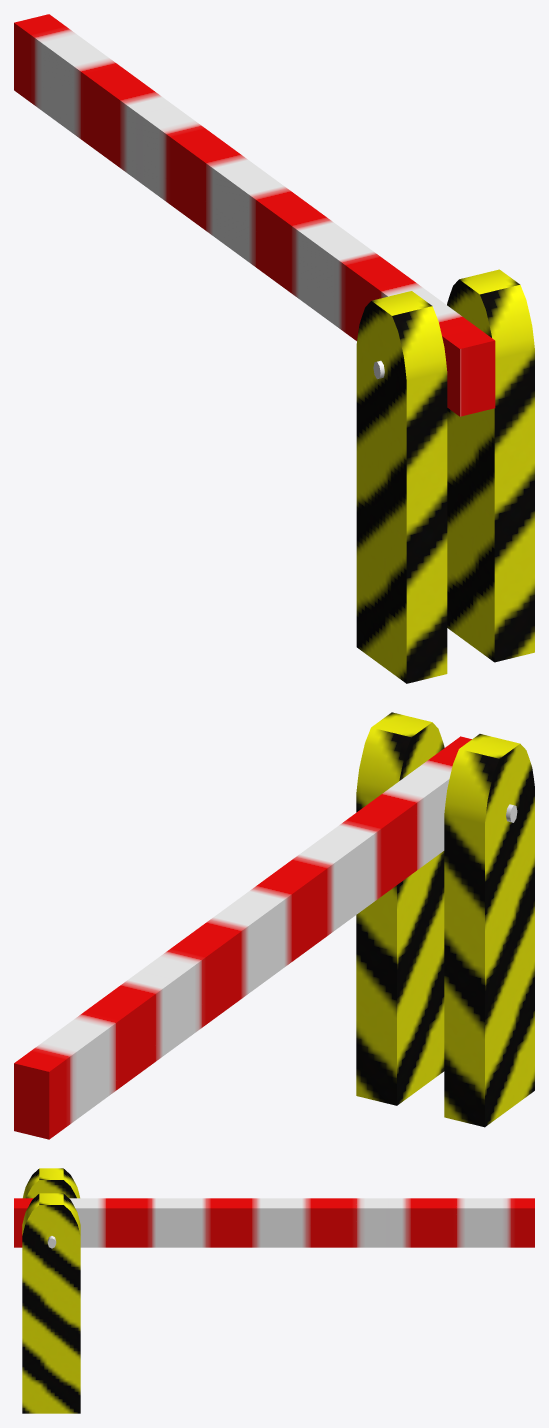
File: road_blocker.fbx
The picture shows the model from 3 angles, top to bottom: view 1: azimuth 30°, elevation 25°; view 2: azimuth 150°, elevation 25°; view 3: azimuth 270°, elevation 25°; orthographic projection. The views are drawn at different scales.
Parts seen in each view (by area): view 1: Cube_001.001, Cylinder.001; view 2: Cube_001.001, Cylinder.001; view 3: Cylinder.001, Cube_001.001.
Boxes of the visible parts, left/top/right/bottom form: Cube_001.001: left=356, top=269, right=534, bottom=683; Cylinder.001: left=14, top=14, right=495, bottom=416; Cube_001.001: left=356, top=712, right=534, bottom=1127; Cylinder.001: left=14, top=736, right=517, bottom=1139; Cylinder.001: left=14, top=1198, right=534, bottom=1248; Cube_001.001: left=22, top=1168, right=80, bottom=1413.
Size of the model in its own units: 13.2 by 31.75 by 71.83.
